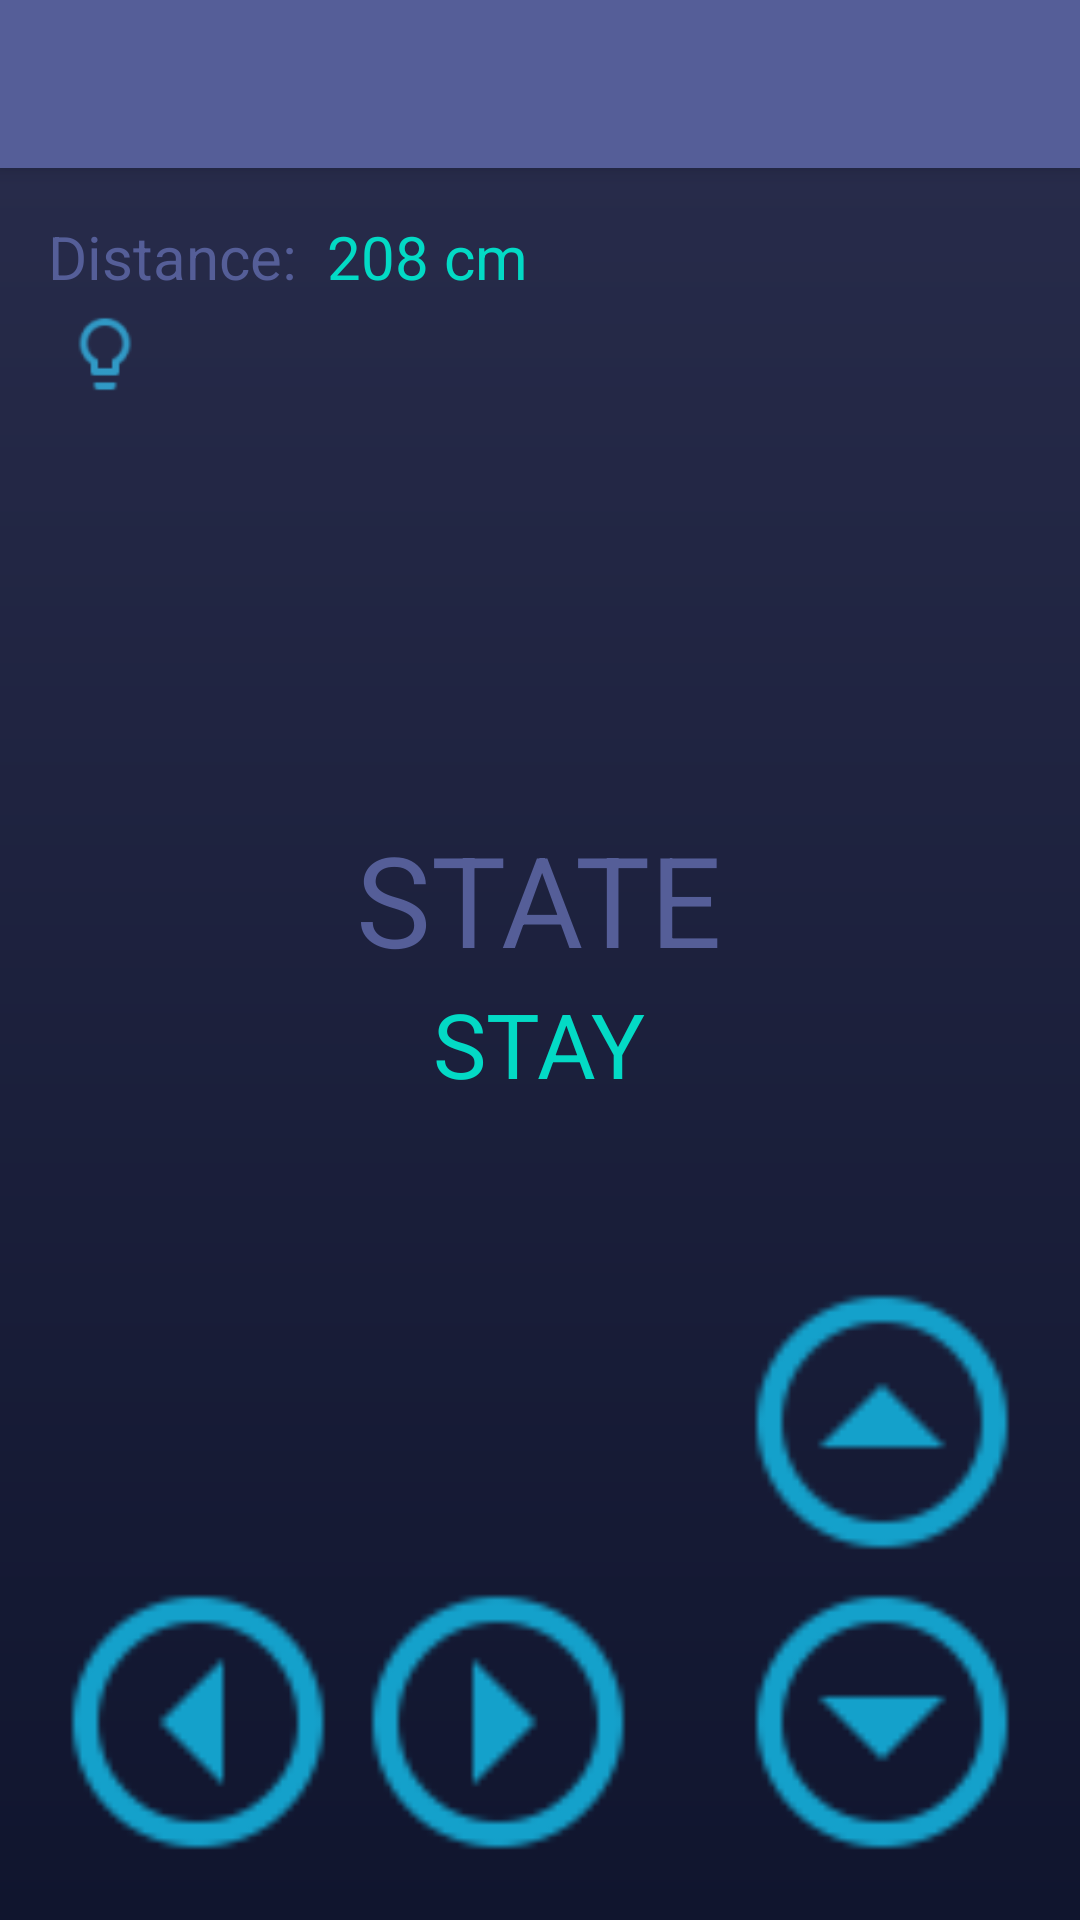

Icon bounding boxes for this 1080 x 1920 phone screenshot, format (x1, y1, x2, y2):
arrow down: (755, 1595, 1009, 1849)
arrow left: (71, 1595, 325, 1849)
arrow right: (371, 1595, 625, 1849)
arrow up: (755, 1295, 1009, 1549)
lightbulb on: (79, 318, 131, 390)
